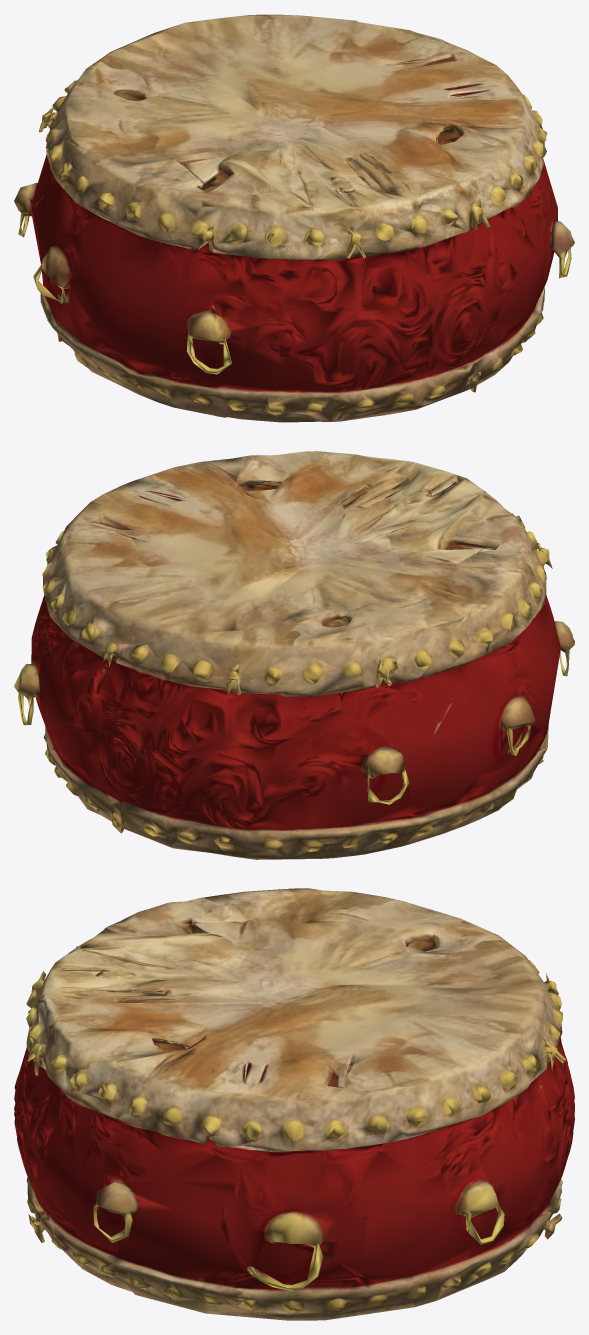
The model's file is drum.glb.
The picture shows the model from 3 angles, top to bottom: view 1: azimuth 30°, elevation 25°; view 2: azimuth 150°, elevation 25°; view 3: azimuth 270°, elevation 25°; orthographic projection. The views are drawn at different scales.
Bounding box in the file's own units: 0.9773 × 0.4316 × 0.9387.
Materials: 1 (1 with a texture image).
